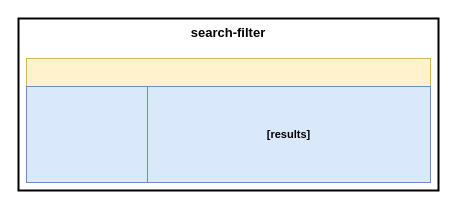
This 456x208 diagram has some shape labels left out. The box of each missing label's shape, as (x1, y1, x2, y2) in pixels:
[filters]: (26, 86, 148, 182)
[search-bar]: (26, 58, 430, 86)
